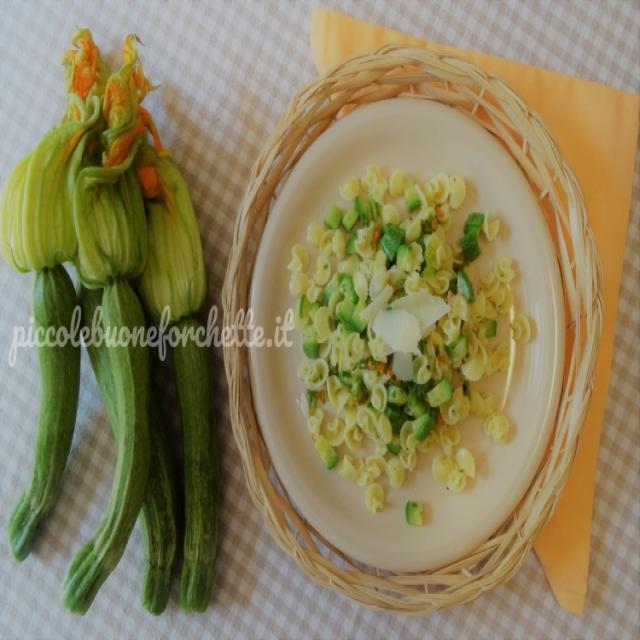Oil pasta: (218, 67, 603, 545)
